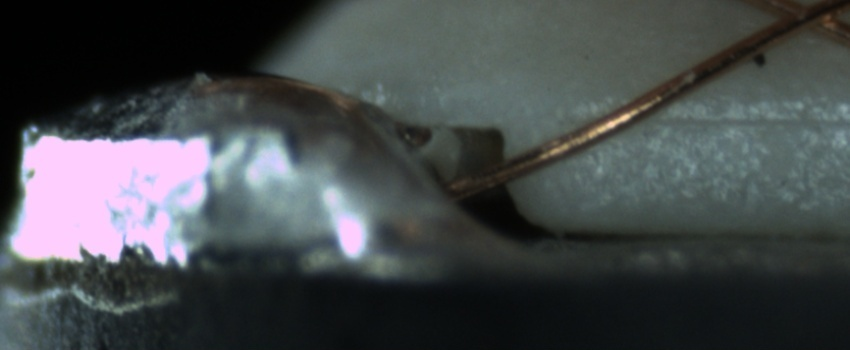CL: (758, 0, 843, 40)
DL: (614, 84, 844, 153)
